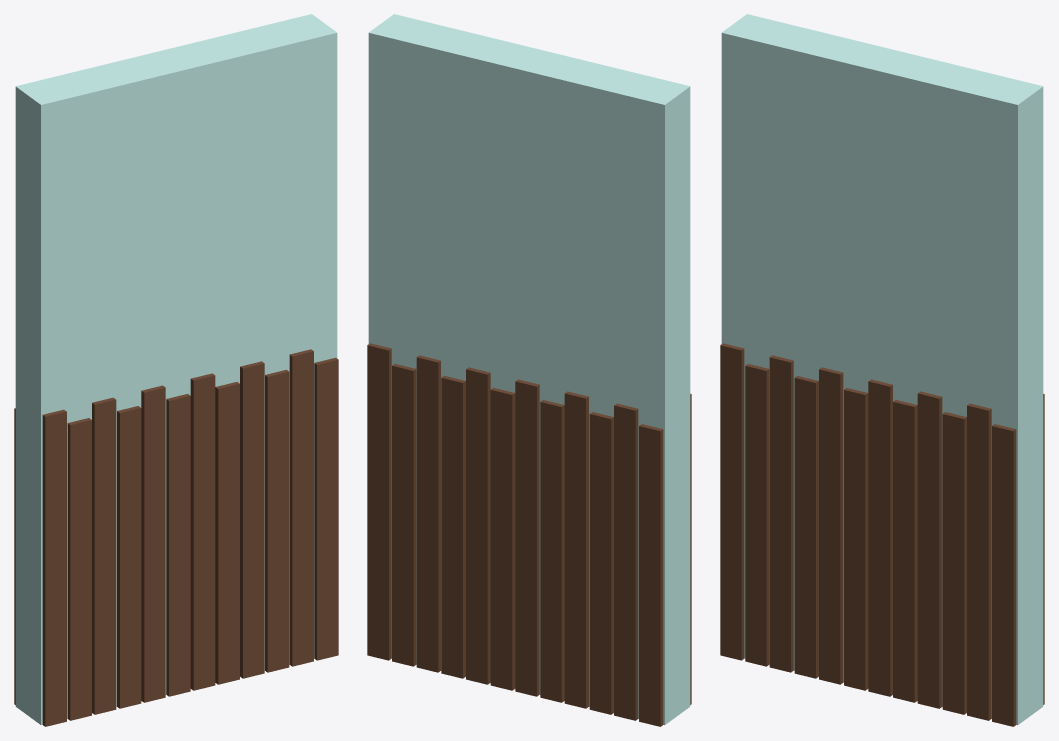
The model's file is BeachWall.glb.
3 renders of one model, left to right at view 1: azimuth 30°, elevation 25°; view 2: azimuth 150°, elevation 25°; view 3: azimuth 330°, elevation 25°, orthographic.
Parts seen in each view (by area): view 1: wall_waveBoards; view 2: wall_waveBoards; view 3: wall_waveBoards.
Part boxes in pixels (x1,y1,x2,y2): wall_waveBoards: [14, 14, 338, 726]; wall_waveBoards: [367, 14, 691, 726]; wall_waveBoards: [720, 14, 1044, 726].
Size of what is drawn, in the model's own units: 2 by 4 by 0.3647.
1 material, 1 textured.
